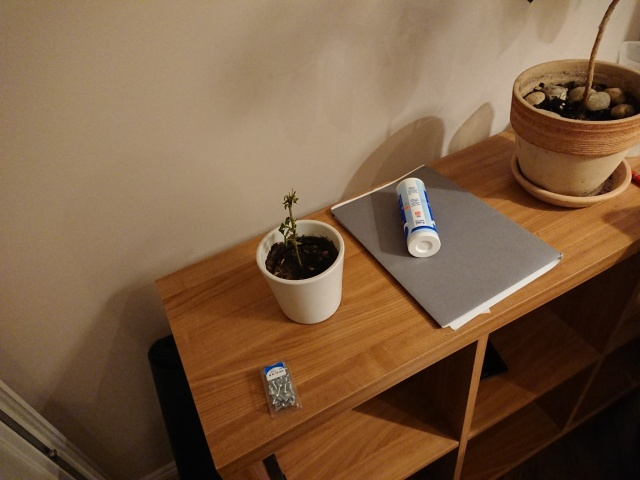Solana Pag Fine Sea Salt 250g: (393, 175, 444, 260)
